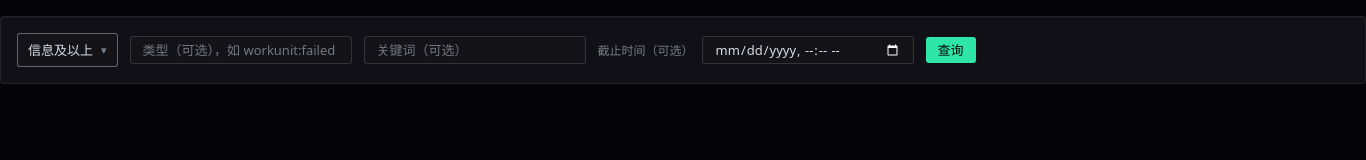
Test case: EventSearchPanel › 查询失败显示错误提示
The image size is (1366, 160).
Click the button "查询". click: {"x": 951, "y": 50}
box: x1=926 y1=37 x2=976 y2=63
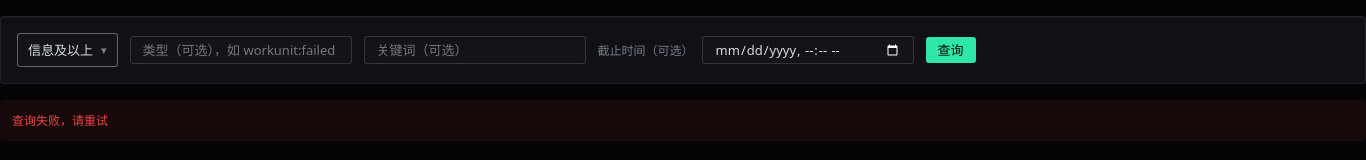
Now the text "查询失败，请重试" is shown, box x1=0 y1=100 x2=1365 y2=141
